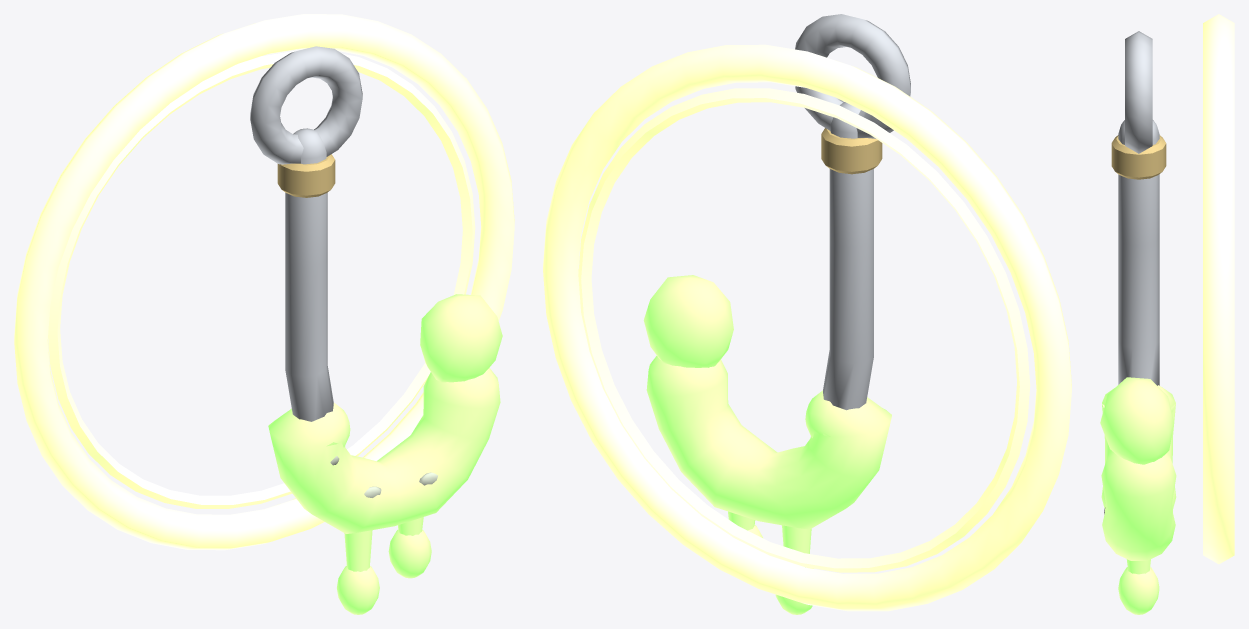
Rendered from item_sticky.glb.
3 views of the same model, side by side, from view 1: azimuth 30°, elevation 25°; view 2: azimuth 150°, elevation 25°; view 3: azimuth 270°, elevation 25° (orthographic). The views are drawn at different scales.
Visible parts, largest first — view 1: item_sticky; view 2: item_sticky; view 3: item_sticky.
Part boxes in pixels (bbox=[...]): item_sticky: bbox=[14, 14, 514, 614]; item_sticky: bbox=[543, 14, 1071, 614]; item_sticky: bbox=[1100, 14, 1234, 614].
Bounding box in the file's own units: 0.482 × 0.5316 × 0.1177.
